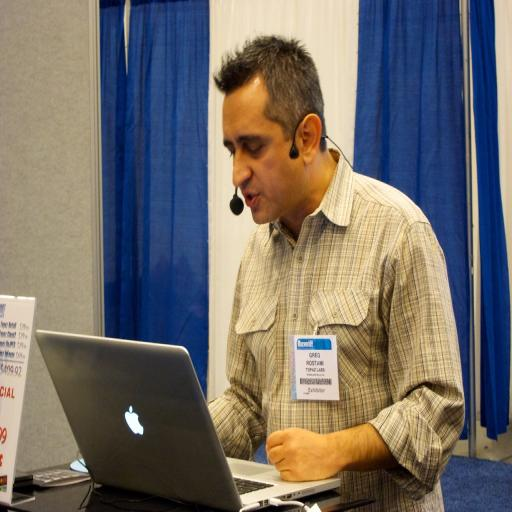Person: (140, 64, 492, 450)
no_gloves: (255, 366, 348, 439)
no_goggle: (206, 148, 278, 186)
no_helmet: (186, 71, 359, 248)
none: (216, 218, 484, 435)
